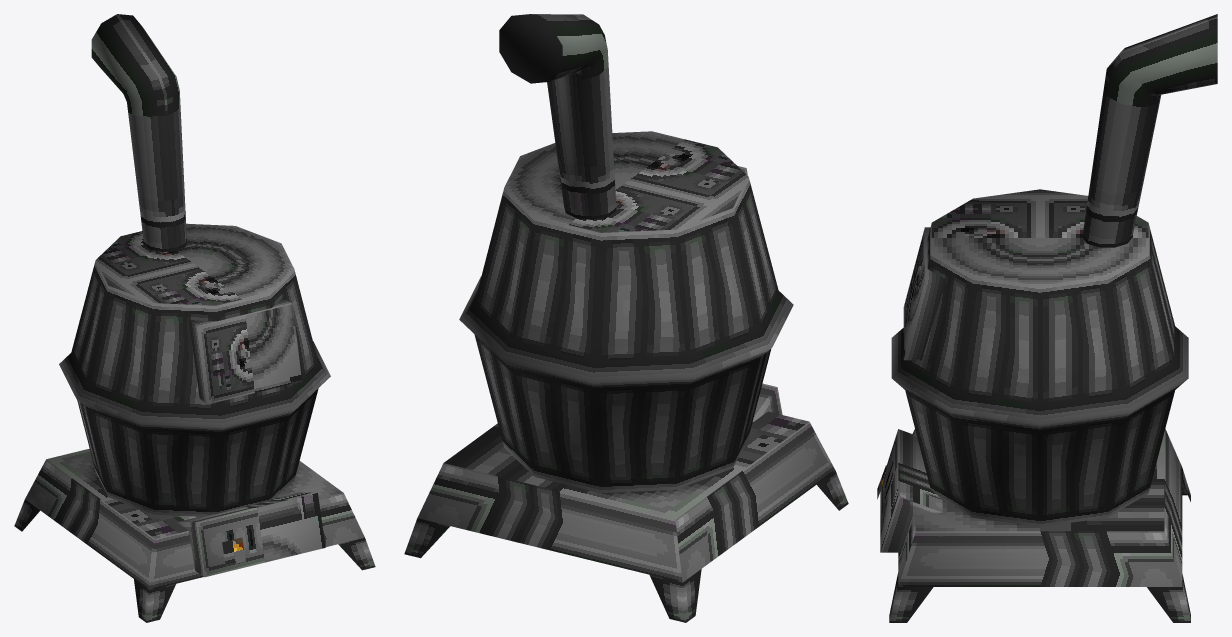
The model's file is int_oth_pbstove.dae.
3 renders of one model, left to right at view 1: azimuth 30°, elevation 25°; view 2: azimuth 150°, elevation 25°; view 3: azimuth 270°, elevation 25°, orthographic. The views are drawn at different scales.
Visible parts, largest first — view 1: int_oth_pbstove; view 2: int_oth_pbstove; view 3: int_oth_pbstove.
Boxes of the visible parts, x1,y1,x2,y2 form: int_oth_pbstove: [14, 14, 375, 622]; int_oth_pbstove: [404, 14, 848, 622]; int_oth_pbstove: [877, 14, 1217, 622].
Bounding box in the file's own units: 28.13 × 53.96 × 30.65.
Materials: 1 (1 with a texture image).
